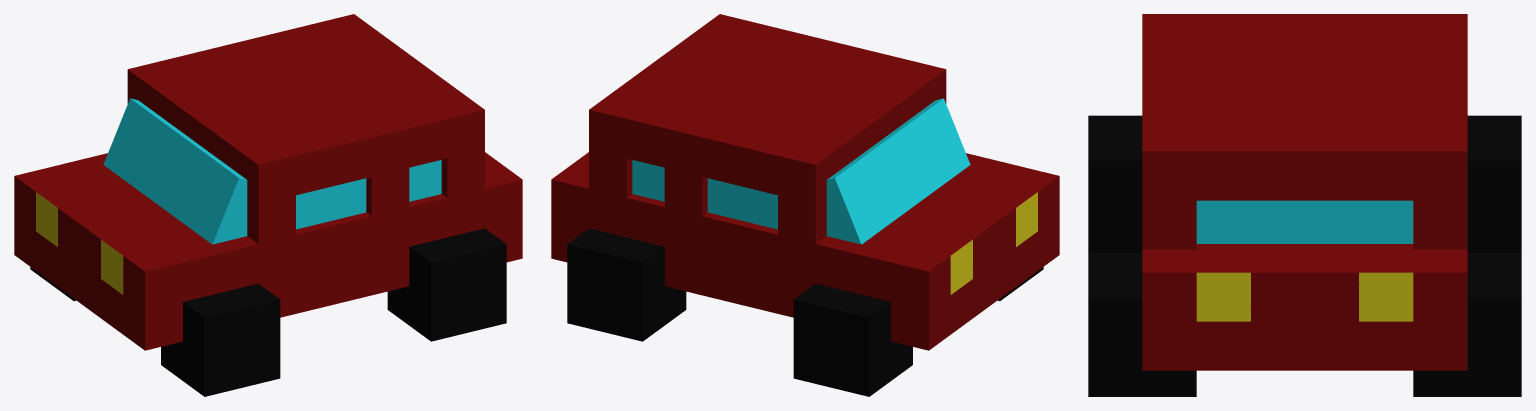
File: test model car.fbx
3 renders of one model, left to right at view 1: azimuth 30°, elevation 25°; view 2: azimuth 150°, elevation 25°; view 3: azimuth 270°, elevation 25°, orthographic. The views are drawn at different scales.
Visible parts, largest first — view 1: cube_1, cube_7, cube, cube_16, cube_8, cube_4, cube_5, cube_18, cube_6, cube_14, cube_13, cube_15; view 2: cube_1, cube_6, cube, cube_16, cube_8, cube_3, cube_2, cube_19, cube_7, cube_11, cube_12, cube_10; view 3: cube_1, cube_9, cube, cube_17, cube_2, cube_5, cube_3, cube_4, cube_6, cube_7, cube_10, cube_15.
Part boxes in pixels (x1,y1,x2,y2): cube_1: (127,14,484,204); cube_7: (123,163,522,310); cube: (14,216,522,350); cube_16: (103,98,247,244); cube_8: (36,173,200,294); cube_4: (161,283,280,396); cube_5: (387,228,506,341); cube_18: (296,160,441,229); cube_6: (14,153,113,230); cube_14: (247,195,295,243); cube_13: (366,168,409,216); cube_15: (441,149,484,197); cube_1: (589,14,946,204); cube_6: (551,163,950,310); cube: (551,216,1059,350); cube_16: (826,98,970,244); cube_8: (873,173,1037,294); cube_3: (793,283,912,396); cube_2: (567,228,686,341); cube_19: (632,160,777,229); cube_7: (960,153,1059,230); cube_11: (778,195,826,243); cube_12: (664,168,707,216); cube_10: (589,149,632,197); cube_1: (1142,14,1467,200); cube_9: (1196,244,1413,321); cube: (1142,321,1467,370); cube_17: (1196,200,1413,243); cube_2: (1413,253,1521,396); cube_5: (1088,253,1196,396); cube_3: (1467,115,1521,252); cube_4: (1088,115,1142,252); cube_6: (1413,249,1467,321); cube_7: (1142,249,1196,321); cube_10: (1413,200,1467,249); cube_15: (1142,200,1196,249).
Bounding box in the file's own units: 62.5 × 31.25 × 50.
Materials: 1 (1 with a texture image).
